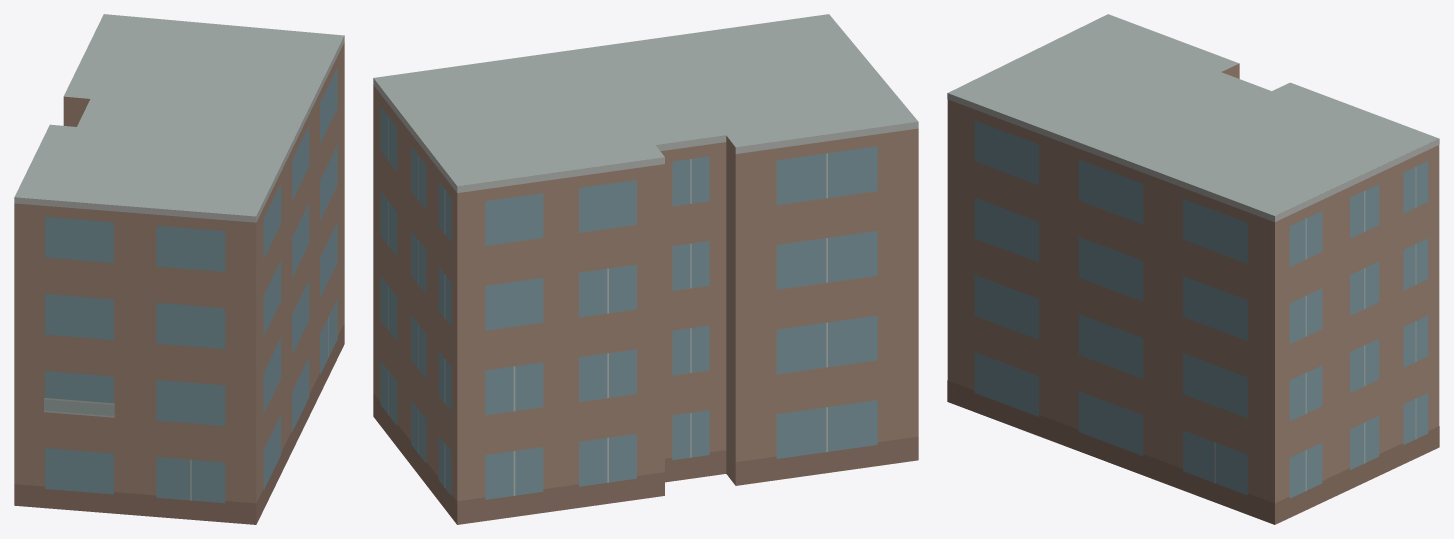
Rendered from survey-upis-32662453.glb.
3 renders of one model, left to right at view 1: azimuth 30°, elevation 25°; view 2: azimuth 150°, elevation 25°; view 3: azimuth 270°, elevation 25°, orthographic. The views are drawn at different scales.
Visible parts, largest first — view 1: survey-upis-32662453.tmp; view 2: survey-upis-32662453.tmp; view 3: survey-upis-32662453.tmp.
Boxes of the visible parts, x1=… form: survey-upis-32662453.tmp: x1=14, y1=14, x2=344, y2=524; survey-upis-32662453.tmp: x1=373, y1=14, x2=918, y2=524; survey-upis-32662453.tmp: x1=947, y1=14, x2=1439, y2=524.
Size of the model in its own units: 17.13 by 12.2 by 17.62.
